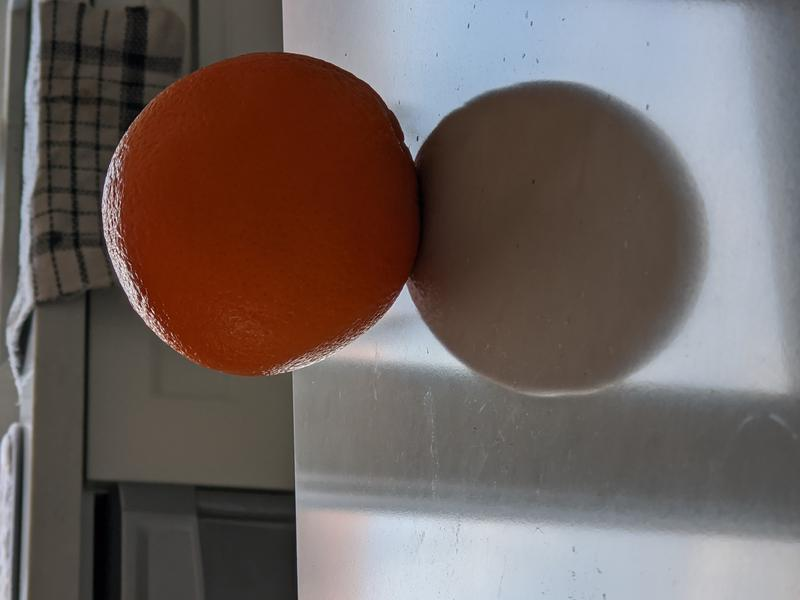orange: (101, 50, 424, 378)
